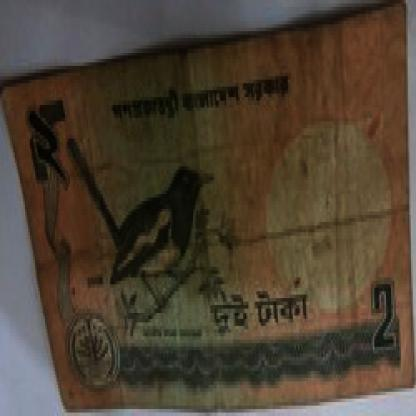two taka: (358, 274, 404, 371), (20, 104, 73, 177)
